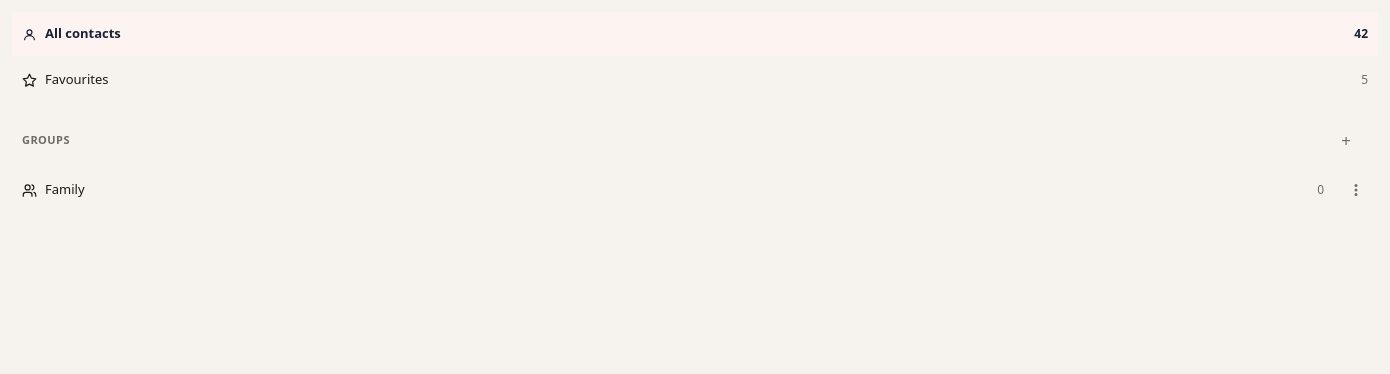
Test: the groups section › disables writing to a group that offers no address
Click the button named "Actions for Family".
click(1356, 190)  # box [1334,168,1378,212]
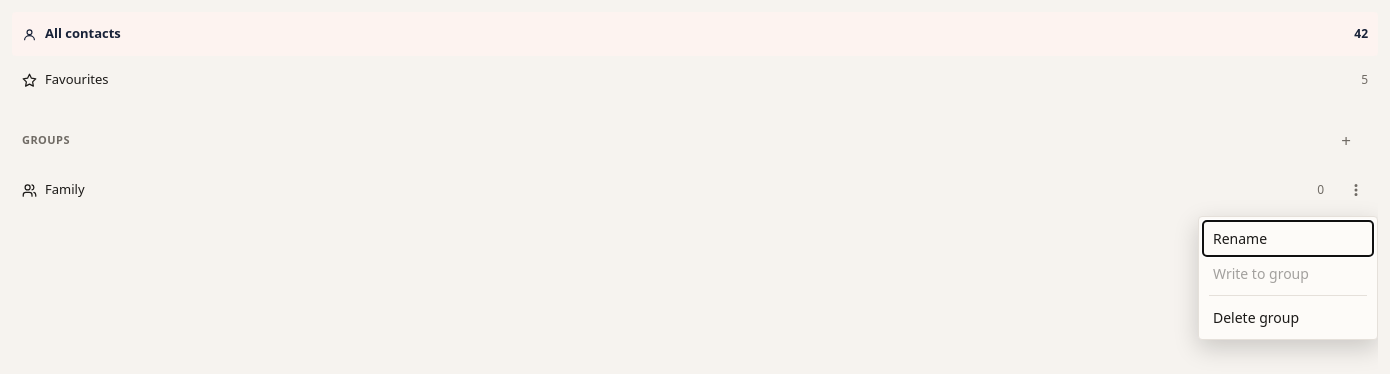
Result: the menu item "Write to group" is disabled at [1203,256,1373,291]
Result: the menu item "Rename" is enabled at [1203,221,1373,256]
